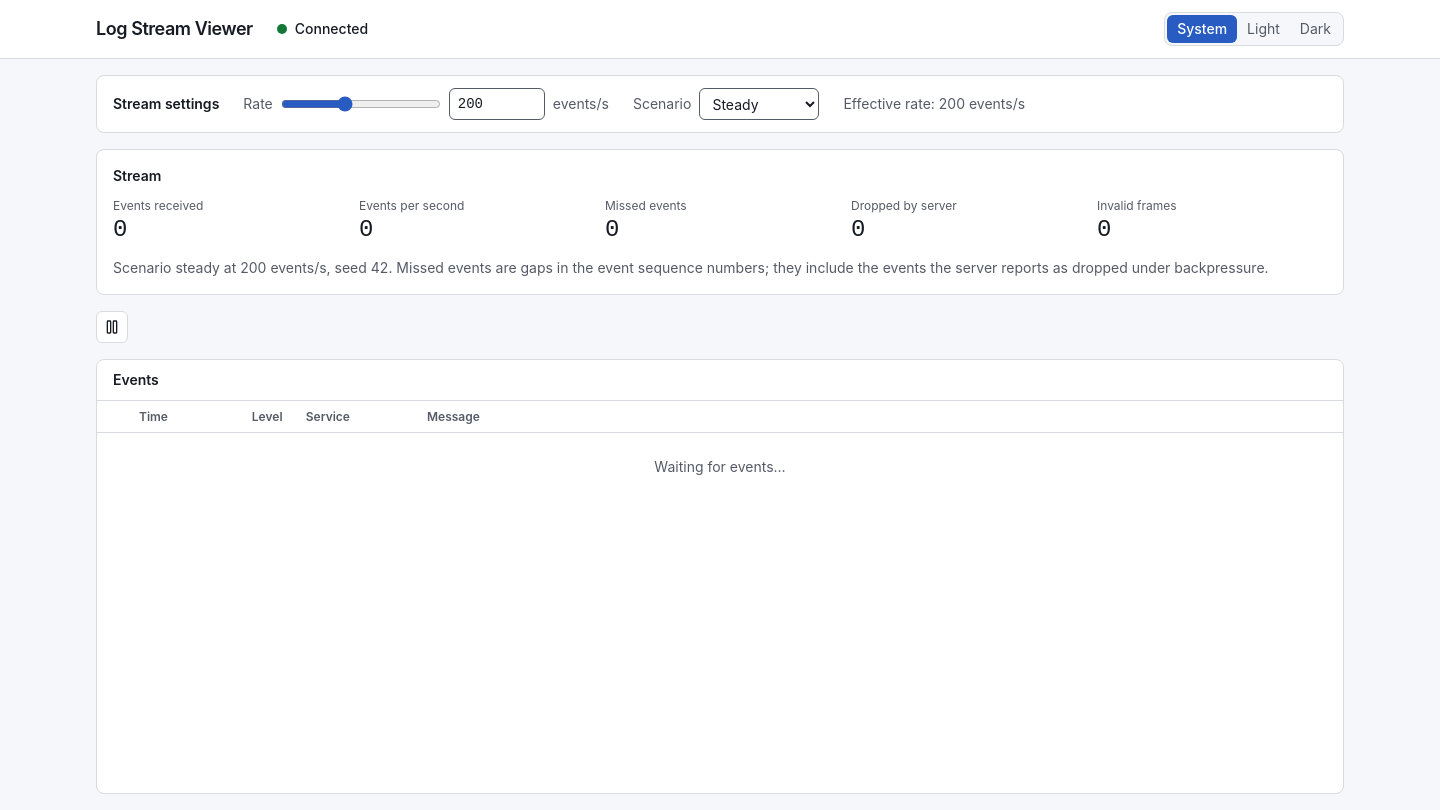
it: StreamPage › pauses with the P key, but not while typing a rate
expect the text "Connected" is shown: met, box top-left (295, 19), bottom-right (368, 39)
Type "p" into the number field named "Exact rate, events per second" at [497, 104], box top-left (449, 88), bottom-right (545, 120)
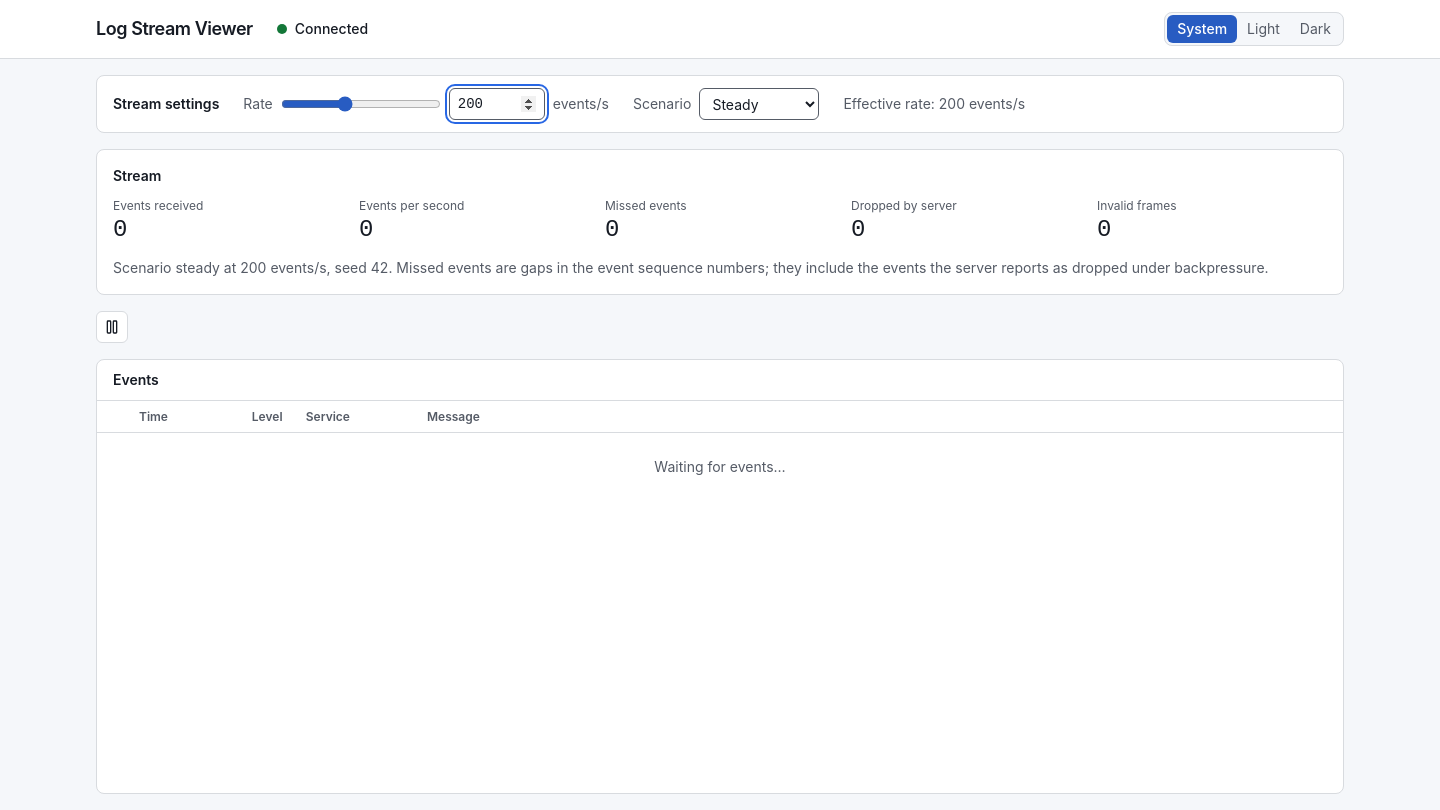
Click the heading "Log Stream Viewer" at [174, 29], box top-left (96, 15), bottom-right (253, 43)
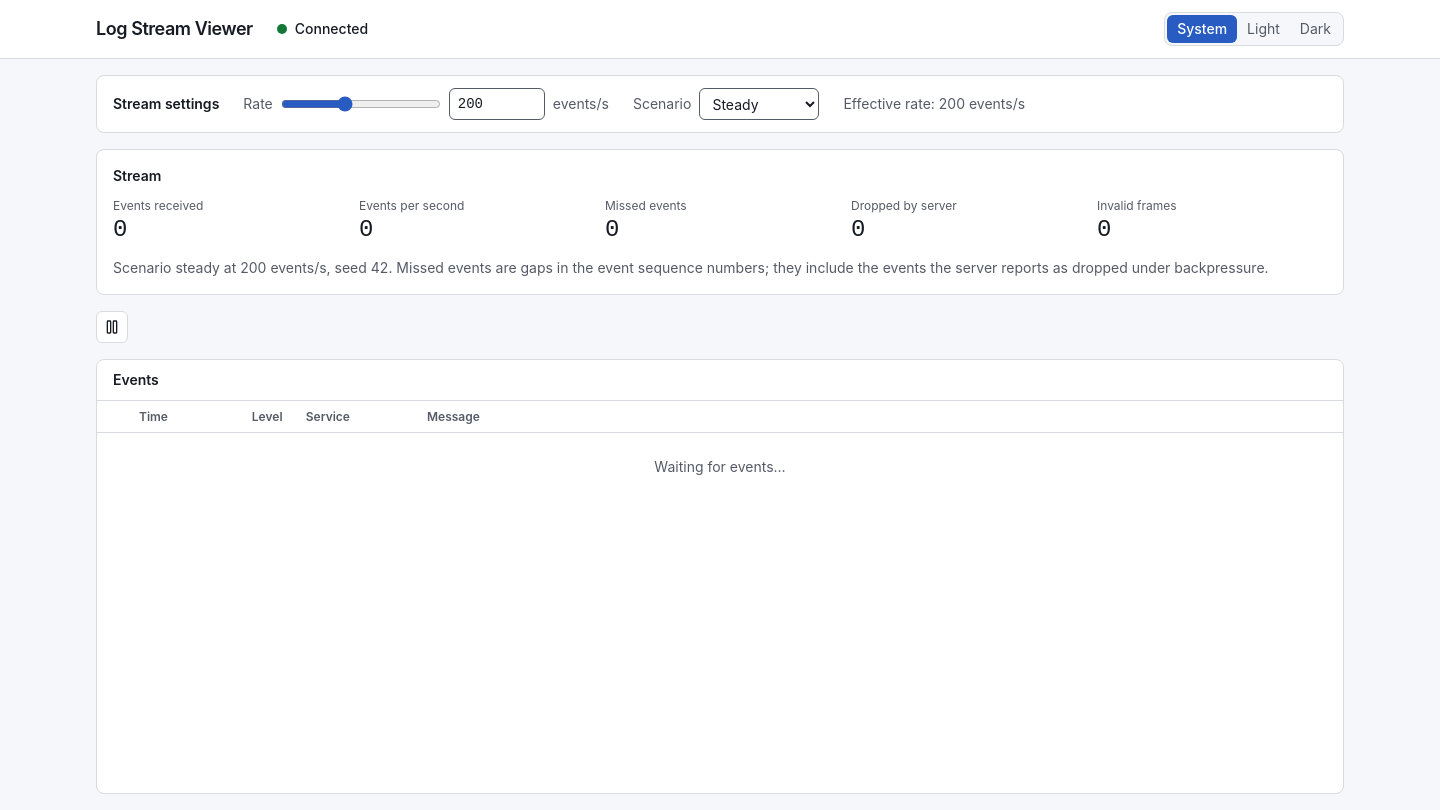
Type keys "p"
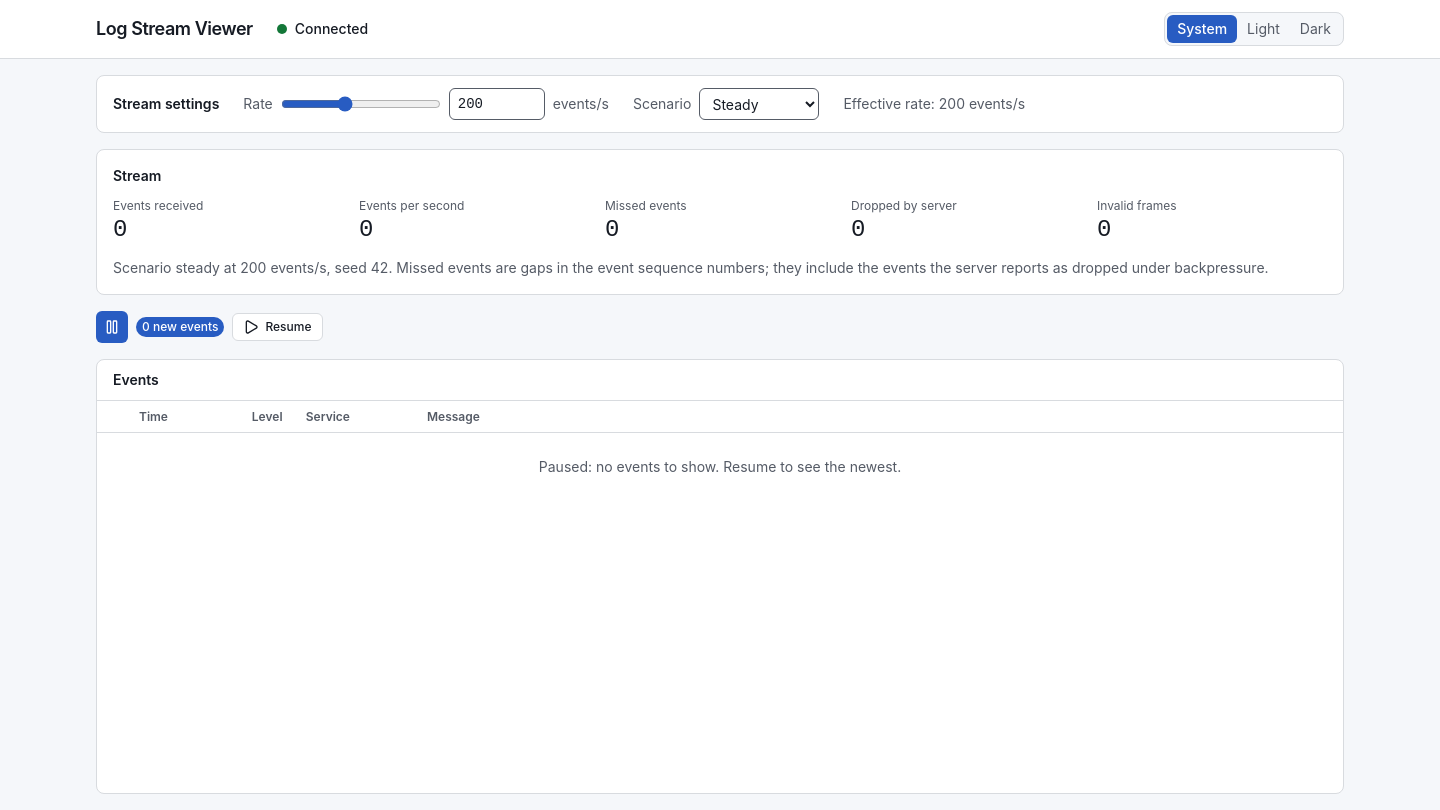
expect the text "0 new events" is shown: met, box top-left (136, 317), bottom-right (224, 337)
